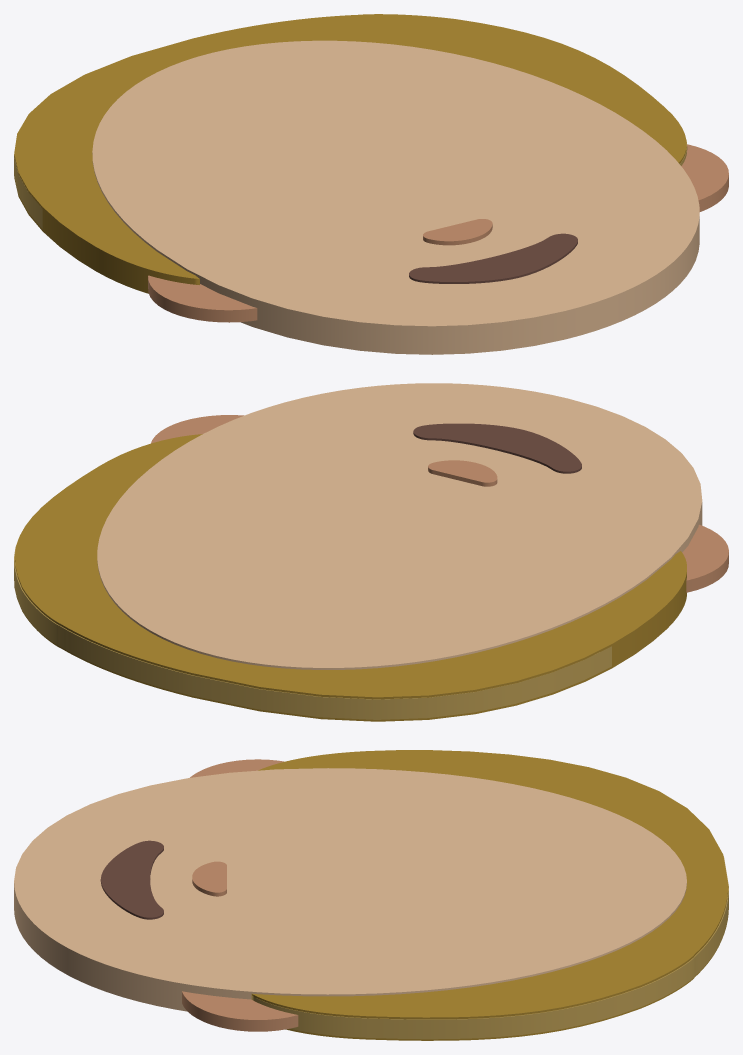
Rendered from emoji_u1f466_1f3fc.glb.
The picture shows the model from 3 angles, top to bottom: view 1: azimuth 30°, elevation 25°; view 2: azimuth 150°, elevation 25°; view 3: azimuth 270°, elevation 25°; orthographic projection. The views are drawn at different scales.
Visible parts, largest first — view 1: emoji_u1f466_1f3fc; view 2: emoji_u1f466_1f3fc; view 3: emoji_u1f466_1f3fc.
Part boxes in pixels (left/top/right/bottom): emoji_u1f466_1f3fc: left=14, top=14, right=728, bottom=354; emoji_u1f466_1f3fc: left=14, top=383, right=728, bottom=721; emoji_u1f466_1f3fc: left=14, top=750, right=728, bottom=1040.
Bounding box in the file's own units: 0.0295 × 0.0018 × 0.0333.
